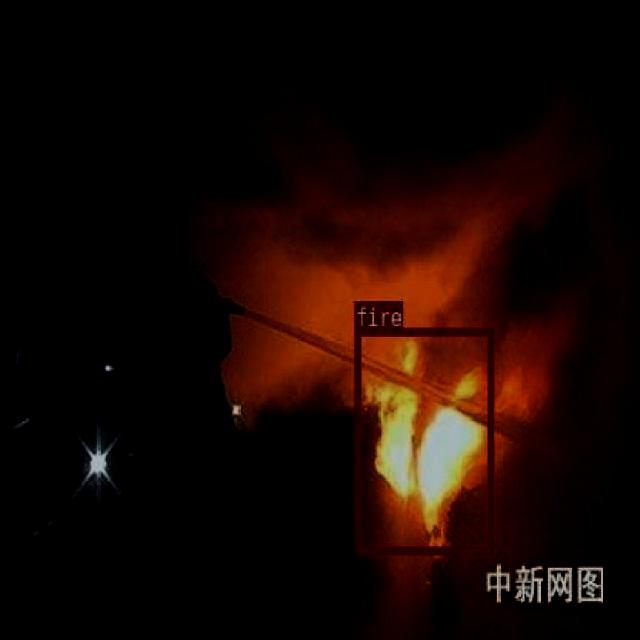fire: (354, 327, 492, 553)
